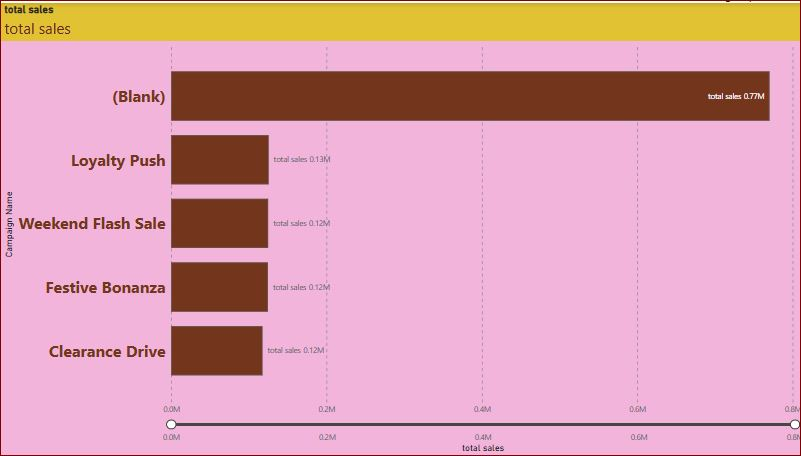

What the dashboard file says about the page in this screenshot:
{"tool":"powerbi","page":{"name":"Campaign Performance","canvas":[1280,720],"ordinal":3},"visuals":[{"type":"clusteredBarChart","title":"total sales","fields":{"Y":["Sum(customer transaction data.Transaction Amount)"],"Category":["promotions.Campaign Name"]},"box":[0,0,1281,719],"z":0}]}

Visuals, with their boxes on the page's 1280x720 design canvas (x1, y1, x2, y2). These are canvas units, not pixel positions in the 801x456 screenshot, which may show the page scaled, cropped or inside an application window:
"total sales" clusteredBarChart: l=0, t=0, r=1281, b=719
